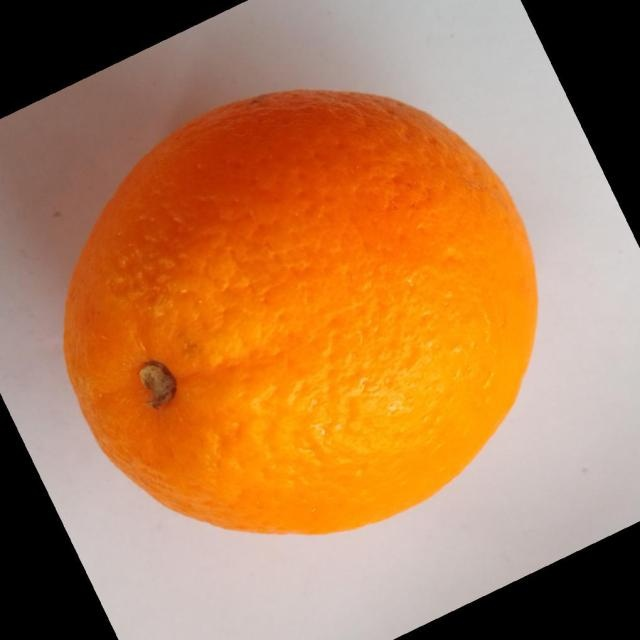agrume: (61, 87, 539, 536)
